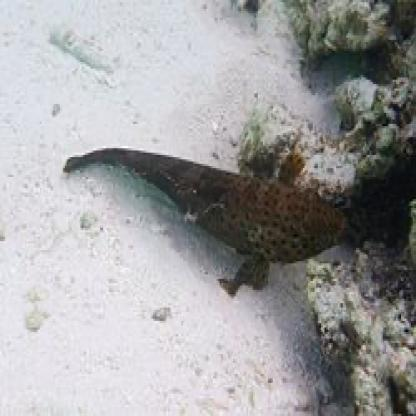Serranidae -Groupers-: (60, 138, 346, 300)
